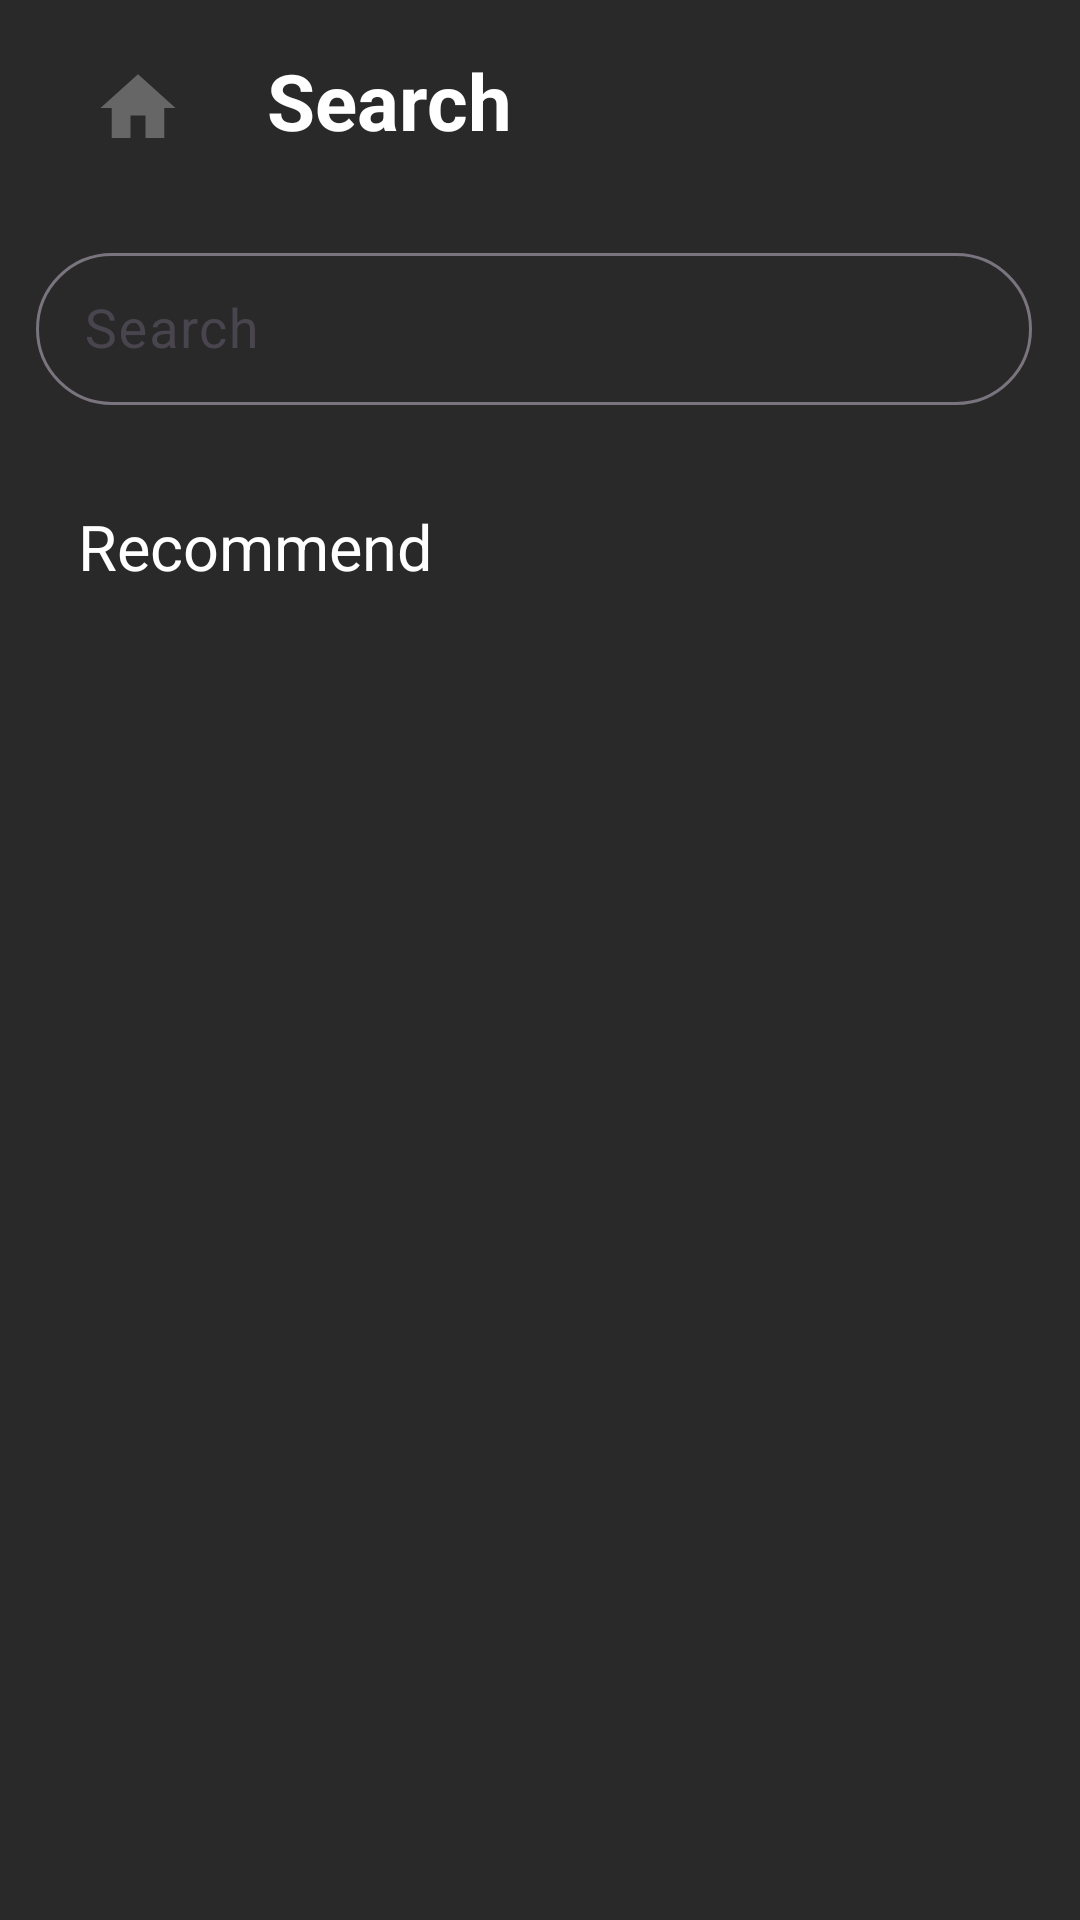

Named icons in this screenshot (1080x1920) and their centers, point (x, y):
Home: point (138, 106)
